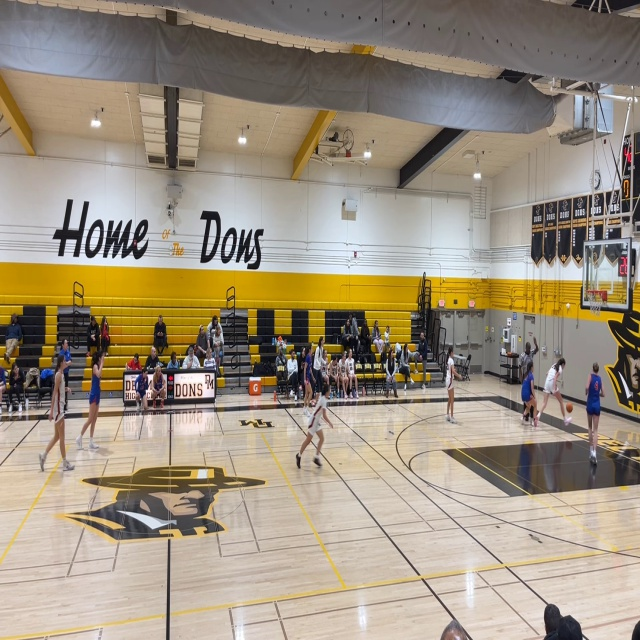Basketball: (565, 403, 573, 413)
